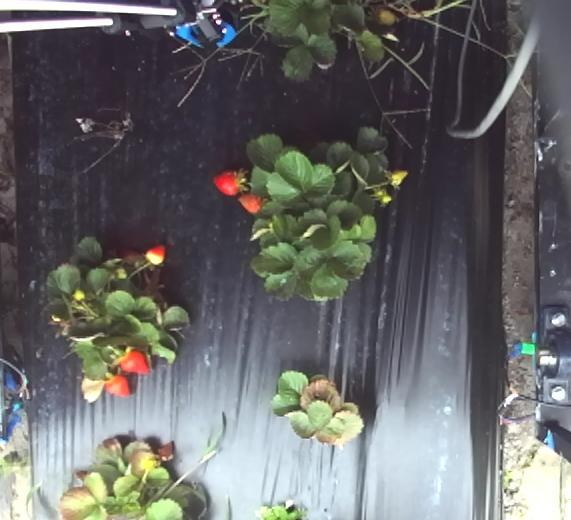mature: (212, 167, 248, 197), (121, 347, 152, 376), (104, 374, 133, 399), (237, 191, 262, 214), (148, 242, 169, 264)
